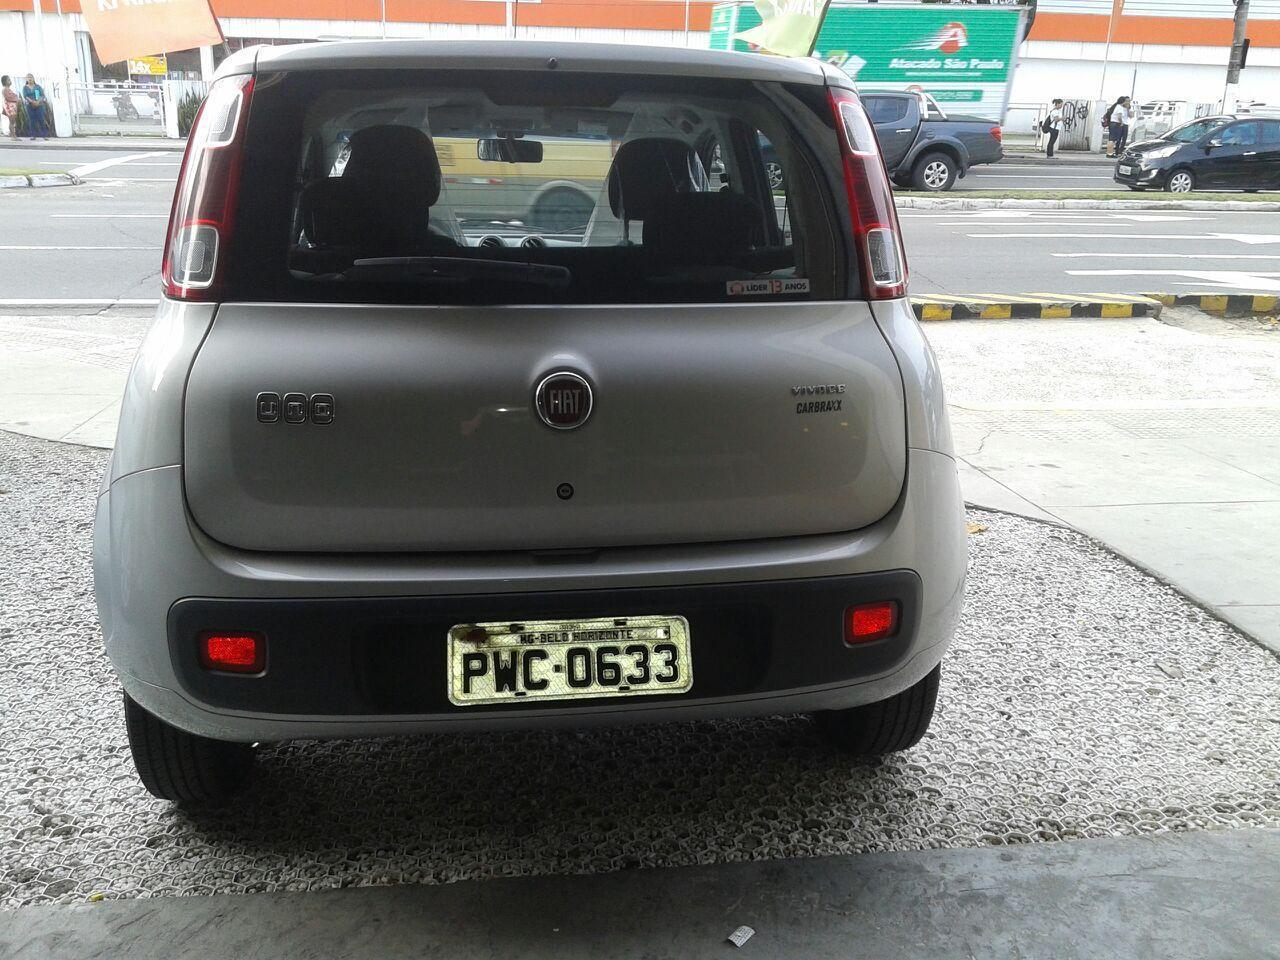placa de veiculo: (404, 597, 755, 733)
